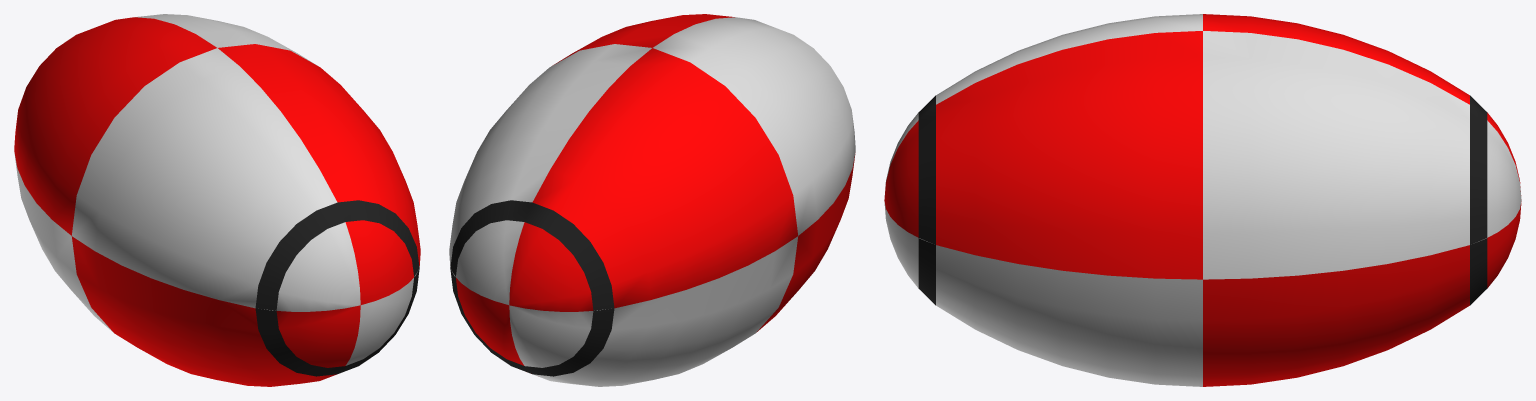
3 renders of one model, left to right at view 1: azimuth 30°, elevation 25°; view 2: azimuth 150°, elevation 25°; view 3: azimuth 270°, elevation 25°, orthographic. The views are drawn at different scales.
Visible parts, largest first — view 1: Mesh1_Model.001; view 2: Mesh1_Model.001; view 3: Mesh1_Model.001.
Part boxes in pixels (bbox=[...]): Mesh1_Model.001: bbox=[14, 14, 420, 386]; Mesh1_Model.001: bbox=[449, 14, 855, 386]; Mesh1_Model.001: bbox=[884, 14, 1521, 386].
Size of the model in its own units: 0.5901 by 0.5901 by 1.
